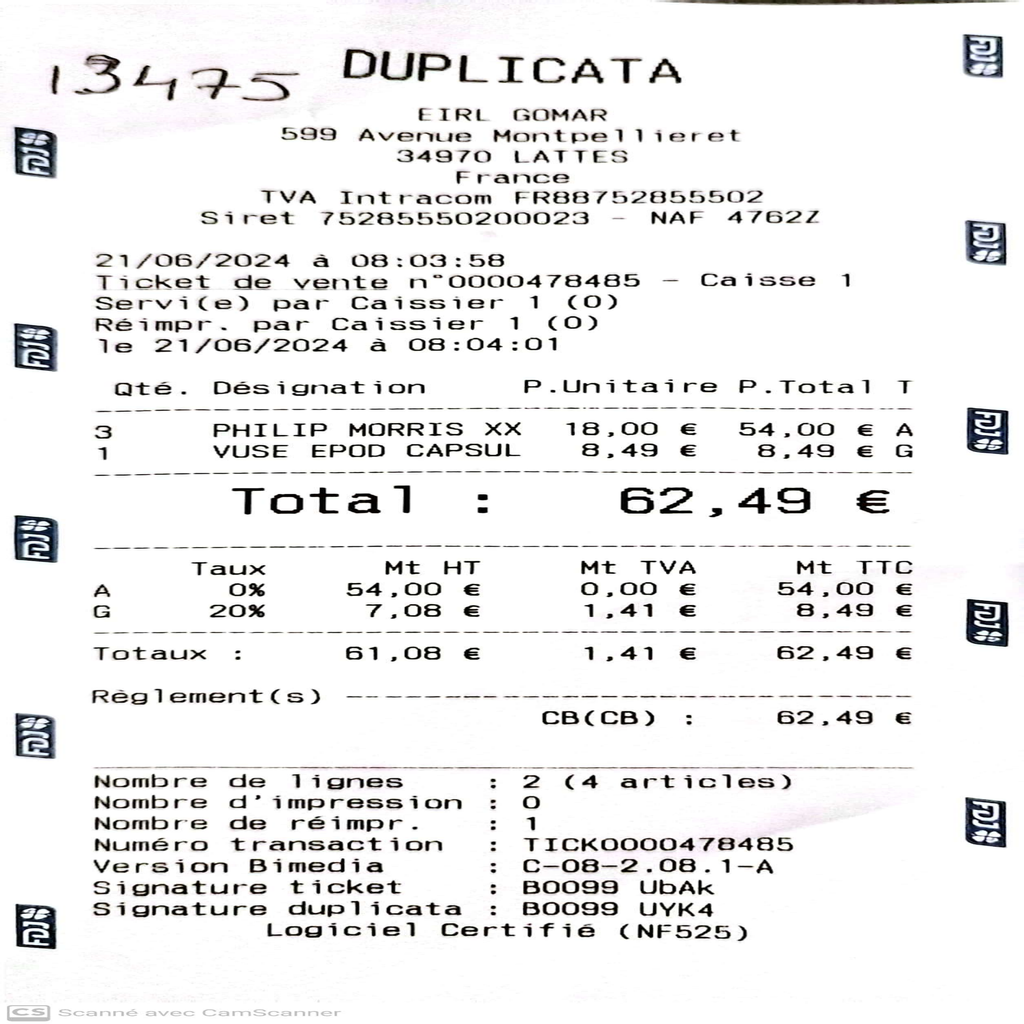recipt: (6, 4, 1016, 1018)
